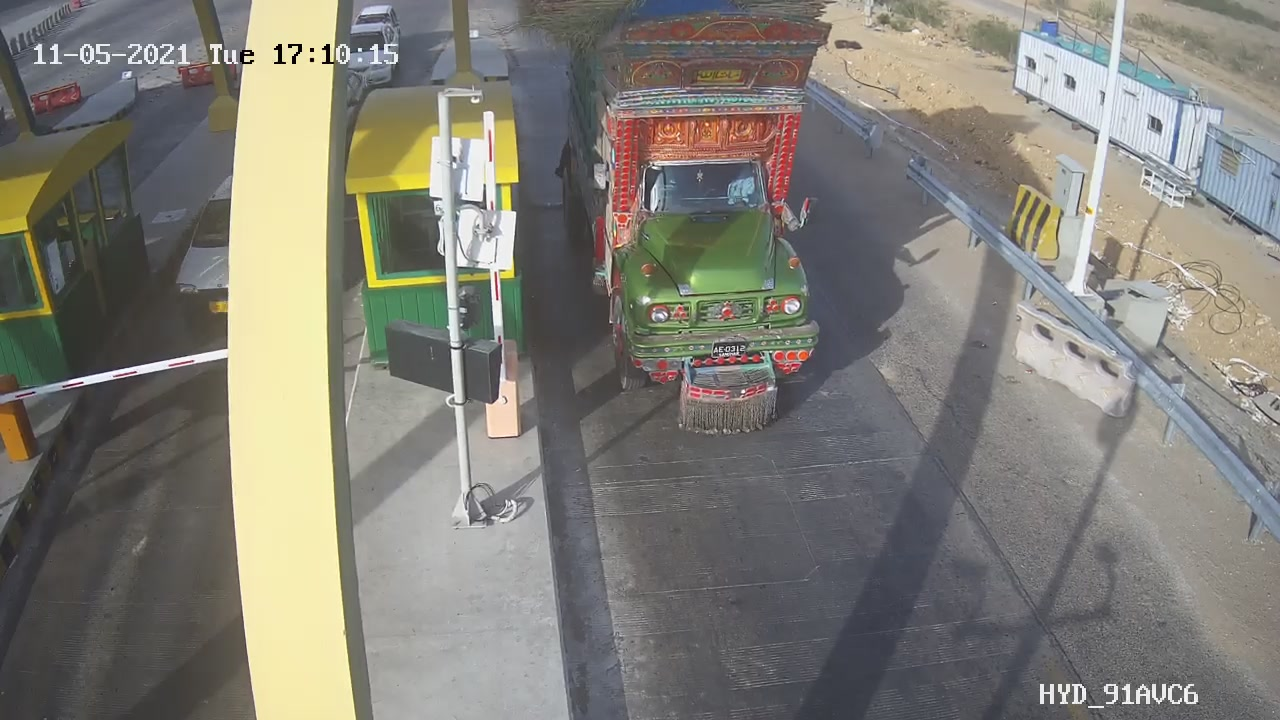F5: (526, 3, 857, 452)
